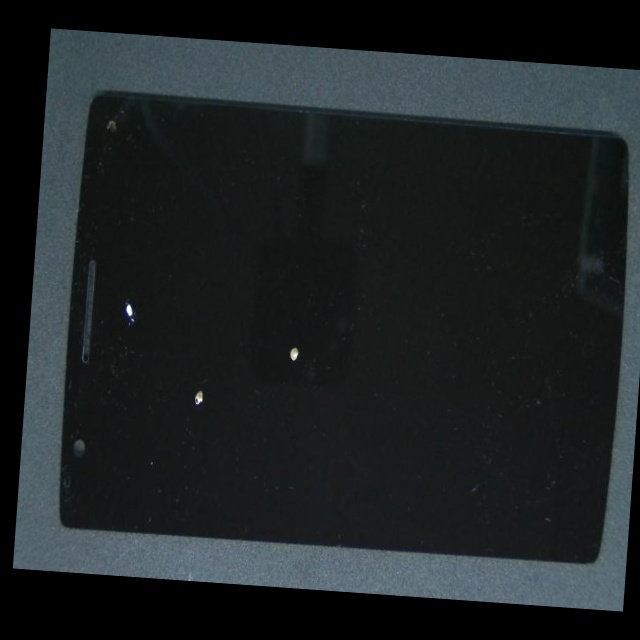stain: (170, 132, 436, 496), (117, 185, 292, 570), (77, 133, 175, 434)
